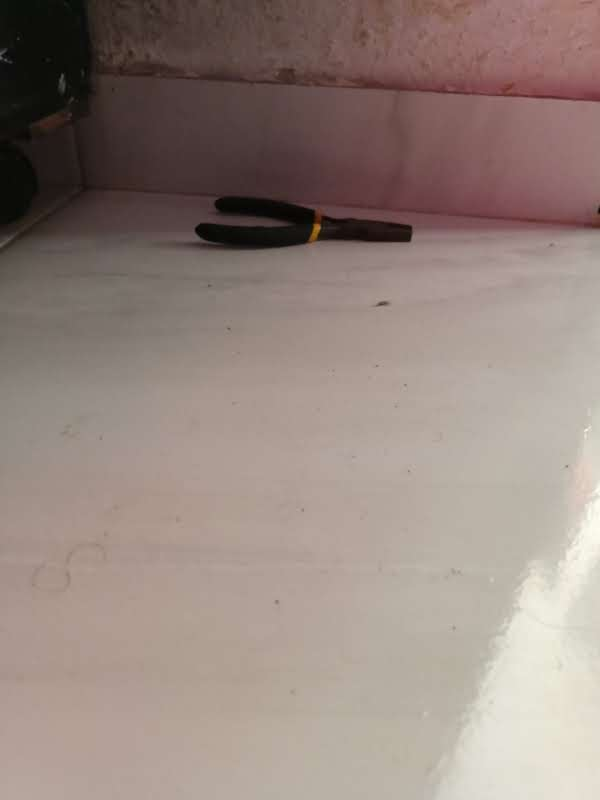Pinzas: (195, 195, 412, 246)
